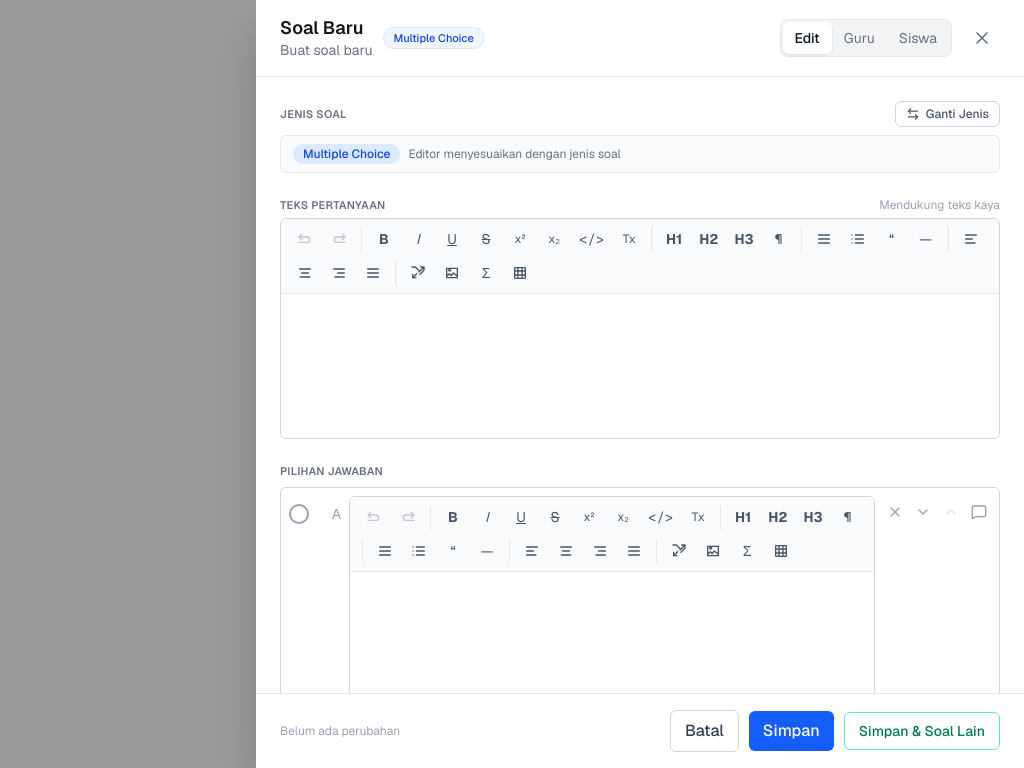
QuestionEditor — ganti jenis soal › beralih tanpa opsi berarti tidak meminta konfirmasi
Click the button with test id "question-type-switch". click: point(947, 114)
box: 895,101 -> 1000,127
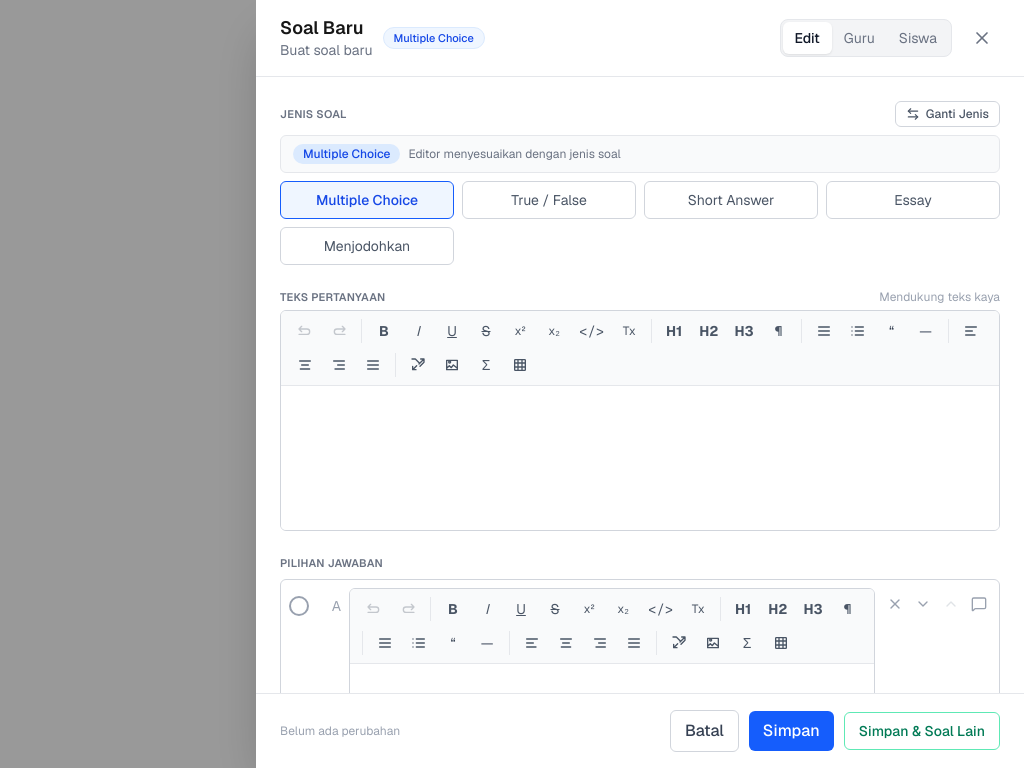
Click the button with test id "question-type-option-essay". click: point(913, 200)
box: 826,181 -> 1000,219
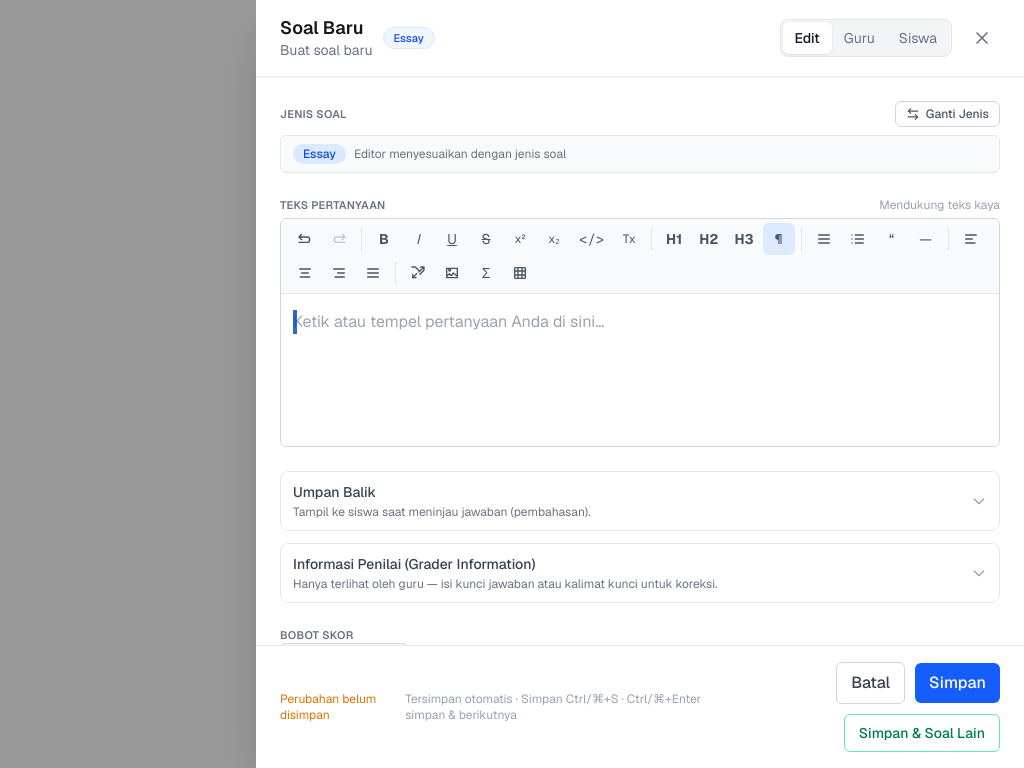
Check: the text with test id "current-question-type" reads "Essay", box 303,146 -> 336,162
